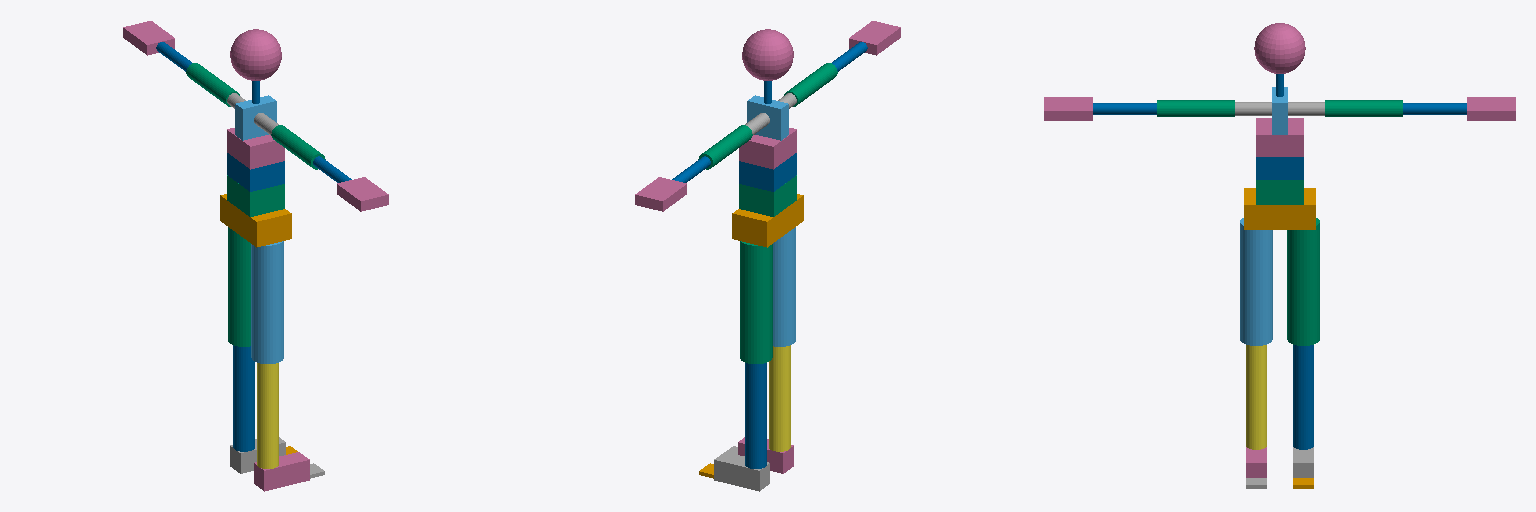
--- What the picture shows (computed from the rendered views, not written in the file) ---
3 views of the same robot in one strip: view 1: azimuth 30°, elevation 25°; view 2: azimuth 150°, elevation 25°; view 3: azimuth 270°, elevation 25° (orthographic).
Robot: XSensStyleModel_template — 49 links, 48 joints (48 revolute); root link Pelvis; default pose: all joints at 0.
Links seen in each view (by area): view 1: RightUpperLeg, LeftUpperLeg, RightLowerLeg, LeftLowerLeg, Head, Pelvis, T12, L5, RightFoot, L3, T8, RightHand (+4 smaller); view 2: LeftUpperLeg, RightUpperLeg, LeftLowerLeg, RightLowerLeg, Head, Pelvis, T12, L5, LeftFoot, L3, T8, LeftHand (+4 smaller); view 3: RightUpperLeg, LeftUpperLeg, Pelvis, RightLowerLeg, LeftLowerLeg, Head, T12, RightUpperArm, LeftUpperArm, L5, RightHand, LeftHand (+6 smaller).
Link boxes in pixels (<box>): RightUpperLeg: <box>251,241,283,363</box>; LeftUpperLeg: <box>228,227,250,346</box>; RightLowerLeg: <box>257,363,278,468</box>; LeftLowerLeg: <box>233,345,254,451</box>; Head: <box>230,29,281,80</box>; Pelvis: <box>220,194,291,247</box>; T12: <box>227,128,284,169</box>; L5: <box>227,175,284,216</box>; RightFoot: <box>254,452,309,491</box>; L3: <box>227,153,284,191</box>; T8: <box>235,95,276,140</box>; RightHand: <box>337,177,388,211</box>; LeftUpperLeg: <box>740,241,772,363</box>; RightUpperLeg: <box>773,227,795,346</box>; LeftLowerLeg: <box>745,363,766,468</box>; RightLowerLeg: <box>769,345,790,451</box>; Head: <box>742,29,793,80</box>; Pelvis: <box>732,194,803,247</box>; T12: <box>739,128,796,169</box>; L5: <box>739,175,796,216</box>; LeftFoot: <box>714,452,769,491</box>; L3: <box>739,153,796,191</box>; T8: <box>747,95,788,140</box>; LeftHand: <box>635,177,686,211</box>; RightUpperLeg: <box>1240,218,1272,345</box>; LeftUpperLeg: <box>1287,218,1319,345</box>; Pelvis: <box>1244,188,1315,229</box>; RightLowerLeg: <box>1246,345,1266,449</box>; LeftLowerLeg: <box>1293,345,1313,449</box>; Head: <box>1254,23,1305,73</box>; T12: <box>1256,118,1303,156</box>; RightUpperArm: <box>1157,100,1234,116</box>; LeftUpperArm: <box>1325,100,1402,116</box>; L5: <box>1256,180,1303,204</box>; RightHand: <box>1044,97,1092,120</box>; LeftHand: <box>1467,97,1515,120</box>.
Bounding box of the posed robot: 0.2938 × 1.63 × 1.69 m (x, y, z).
Geometry: primitives only (box / cylinder / sphere), no mesh files.

robot.urdf — XSensStyleModel_template:
<!--URDF MODEL 48 DoFs-->

<robot name="XSensStyleModel_template">
<!--To open this model with Gazebo replace the null masses, inertias and dimensions of the 'fake links f1 and f2'-->
    <!--LINKS-->
	<!--Link base (1)-->
	<link name="Pelvis">
        <inertial>
            <mass value="4.976"/>
			<!--COM origin wrt pHipOrigin-->
            <origin xyz="0           0    0.049743" rpy="0 0 0" />
            <inertia ixx="0.029678" iyy="0.011854" izz="0.033653" ixy="0" ixz="0" iyz="0"/>
        </inertial>

        <visual>
			<!--box origin wrt pHipOrigin-->
            <origin xyz="0           0    0.049743" rpy="0 0 0" />
            <geometry>
                <box size="0.13815     0.24914    0.097469"/>
            </geometry>
        </visual>

        <collision>
			<!--box origin wrt pHipOrigin-->
            <origin xyz="0           0    0.049743" rpy="0 0 0" />
            <geometry>
                <box size="0.13815     0.24914    0.097469"/>
            </geometry>
        </collision>
    </link>


    <!--Chain from (2) to (7)-->
	<link name="L5_f1">
        <inertial>
            <mass value="0"/>
            <origin xyz="0 0 0" rpy="0 0 0" />
            <inertia ixx="0" iyy="0" izz="0" ixy="0" ixz="0" iyz="0"/>
        </inertial>
    </link>


	<link name="L5">
        <inertial>
            <mass value="6.3444"/>
			<!--COM origin wrt jL5S1-->
            <origin xyz="0           0    0.047552" rpy="0 0 0" />
            <inertia ixx="0.018868" iyy="0.014872" izz="0.024177" ixy="0" ixz="0" iyz="0"/>
        </inertial>

        <visual>
			<!--box origin origin wrt jL5S1-->
            <origin xyz="0           0    0.047552" rpy="0 0 0" />
            <geometry>
                <box size="0.13815     0.16323    0.095104"/>
            </geometry>
        </visual>

        <collision>
			<!--box origin origin wrt jL5S1-->
            <origin xyz="0           0    0.047552" rpy="0 0 0" />
            <geometry>
                <box size="0.13815     0.16323    0.095104"/>
            </geometry>
        </collision>
    </link>


	<link name="L3_f1">
        <inertial>
            <mass value="0"/>
            <origin xyz="0 0 0" rpy="0 0 0" />
            <inertia ixx="0" iyy="0" izz="0" ixy="0" ixz="0" iyz="0"/>
        </inertial>
    </link>


	<link name="L3">
        <inertial>
            <mass value="6.3444"/>
			<!--COM origin wrt jL4L3-->
            <origin xyz="0           0    0.042958" rpy="0 0 0" />
            <inertia ixx="0.017989" iyy="0.013993" izz="0.024177" ixy="0" ixz="0" iyz="0"/>
        </inertial>

        <visual>
			<!--box origin origin wrt jL4L3-->
            <origin xyz="0           0    0.042958" rpy="0 0 0" />
            <geometry>
                <box size="0.13815     0.16323    0.085916"/>
            </geometry>
        </visual>

        <collision>
			<!--box origin origin wrt jL4L3-->
            <origin xyz="0           0    0.042958" rpy="0 0 0" />
            <geometry>
                <box size="0.13815     0.16323    0.085916"/>
            </geometry>
        </collision>
    </link>


	<link name="T12_f1">
        <inertial>
            <mass value="0"/>
            <origin xyz="0 0 0" rpy="0 0 0" />
            <inertia ixx="0" iyy="0" izz="0" ixy="0" ixz="0" iyz="0"/>
        </inertial>
    </link>


	<link name="T12">
        <inertial>
            <mass value="6.3444"/>
			<!--COM origin wrt jL1T12-->
            <origin xyz="0           0    0.042958" rpy="0 0 0" />
            <inertia ixx="0.017989" iyy="0.013993" izz="0.024177" ixy="0" ixz="0" iyz="0"/>
        </inertial>

        <visual>
			<!--box origin origin wrt jL1T12-->
            <origin xyz="0           0    0.042958" rpy="0 0 0" />
            <geometry>
                <box size="0.13815     0.16323    0.085916"/>
            </geometry>
        </visual>

        <collision>
			<!--box origin origin wrt jL1T12-->
            <origin xyz="0           0    0.042958" rpy="0 0 0" />
            <geometry>
                <box size="0.13815     0.16323    0.085916"/>
            </geometry>
        </collision>
    </link>


	<link name="T8_f1">
        <inertial>
            <mass value="0"/>
            <origin xyz="0 0 0" rpy="0 0 0" />
            <inertia ixx="0" iyy="0" izz="0" ixy="0" ixz="0" iyz="0"/>
        </inertial>
    </link>


	<link name="T8_f2">
        <inertial>
            <mass value="0"/>
            <origin xyz="0 0 0" rpy="0 0 0" />
            <inertia ixx="0" iyy="0" izz="0" ixy="0" ixz="0" iyz="0"/>
        </inertial>
    </link>


	<link name="T8">
        <inertial>
            <mass value="2.488"/>
			<!--COM origin wrt jT9T8-->
            <origin xyz="0           0    0.059874" rpy="0 0 0" />
            <inertia ixx="0.0035473" iyy="0.0067278" izz="0.0043289" ixy="0" ixz="0" iyz="0"/>
        </inertial>

        <visual>
			<!--box origin wrt jT9T8-->
            <origin xyz="0           0    0.059874" rpy="0 0 0" />
            <geometry>
                <box size="0.13457    0.052626     0.11975"/>
            </geometry>
        </visual>

        <collision>
			<!--box origin wrt jT9T8-->
            <origin xyz="0           0    0.059874" rpy="0 0 0" />
            <geometry>
                <box size="0.13457    0.052626     0.11975"/>
            </geometry>
        </collision>

    </link>


	<link name="Neck_f1">
        <inertial>
            <mass value="0"/>
            <origin xyz="0 0 0" rpy="0 0 0" />
            <inertia ixx="0" iyy="0" izz="0" ixy="0" ixz="0" iyz="0"/>
        </inertial>
    </link>


	<link name="Neck_f2">
        <inertial>
            <mass value="0"/>
            <origin xyz="0 0 0" rpy="0 0 0" />
            <inertia ixx="0" iyy="0" izz="0" ixy="0" ixz="0" iyz="0"/>
        </inertial>
    </link>


	<link name="Neck">
        <inertial>
            <mass value="0.7464"/>
			<!--COM origin wrt jT1C7-->
            <origin xyz="0           0    0.044626" rpy="0 0 0" />
            <inertia ixx="0.0006461" iyy="0.0006461" izz="0.00030124" ixy="0" ixz="0" iyz="0"/>
        </inertial>

        <visual>
			<!--box origin wrt jT1C7-->
            <origin xyz="0           0    0.044626" rpy="0 0 0" />
            <geometry>
		<cylinder length="0.089252" radius="0.014205"/>
            </geometry>
        </visual>

        <collision>
			<!--box origin wrt jT1C7-->
            <origin xyz="0           0    0.044626" rpy="0 0 0" />
            <geometry>
                <cylinder length="0.089252" radius="0.014205"/>
            </geometry>
        </collision>
    </link>


	<link name="Head_f1">
        <inertial>
            <mass value="0"/>
            <origin xyz="0 0 0" rpy="0 0 0" />
            <inertia ixx="0" iyy="0" izz="0" ixy="0" ixz="0" iyz="0"/>
        </inertial>
    </link>


	<link name="Head">
        <inertial>
            <mass value="2.2392"/>
			<!--COM origin wrt jC1Head-->
            <origin xyz="0           0    0.089005" rpy="0 0 0" />
            <inertia ixx="0.0070955" iyy="0.0070955" izz="0.0070955" ixy="0" ixz="0" iyz="0"/>
        </inertial>

        <visual>
			<!--boc origin wrt jC1Head-->
            <origin xyz="0           0    0.089005" rpy="0 0 0" />
            <geometry>
                <sphere radius="0.089005"/>
            </geometry>
        </visual>

        <collision>
			<!--box origin wrt jC1Head-->
            <origin xyz="0           0    0.089005" rpy="0 0 0" />
            <geometry>
                <sphere radius="0.089005"/>
            </geometry>
        </collision>

    </link>


	<!--Chain from (8) to (11)-->
	<link name="RightShoulder">
        <inertial>
            <mass value="1.9282"/>
			<!--COM origin wrt jRightC7Shoulder-->
            <origin xyz="0   -0.065233           0" rpy="0 0 0" />
            <inertia ixx="0.0030029" iyy="0.00053578" izz="0.0030029" ixy="0" ixz="0" iyz="0"/>
        </inertial>

        <visual>
			<!--box origin wrt jRightC7Shoulder. RPY rotated of pi/2.-->
            <origin xyz="0   -0.065233           0" rpy="1.5708 0 0" />
            <geometry>
                <cylinder length="0.13047" radius="0.023574"/>
            </geometry>
        </visual>

        <collision>
			<!--box origin wrt jRightC7Shoulder. RPY rotated of pi/2.-->
            <origin xyz="0   -0.065233           0" rpy="1.5708 0 0" />
            <geometry>
                <cylinder length="0.13047" radius="0.023574"/>
            </geometry>
        </collision>

    </link>


	<link name="RightUpperArm_f1">
        <inertial>
            <mass value="0"/>
            <origin xyz="0 0 0" rpy="0 0 0" />
            <inertia ixx="0" iyy="0" izz="0" ixy="0" ixz="0" iyz="0"/>
        </inertial>
    </link>


	<link name="RightUpperArm_f2">
        <inertial>
            <mass value="0"/>
            <origin xyz="0 0 0" rpy="0 0 0" />
            <inertia ixx="0" iyy="0" izz="0" ixy="0" ixz="0" iyz="0"/>
        </inertial>
    </link>


    <link name="RightUpperArm">
        <inertial>
            <mass value="1.866"/>
			<!--COM origin wrt jRightShoulder-->
            <origin xyz="0    -0.13497           0" rpy="0 0 0" />
            <inertia ixx="0.011736" iyy="0.00080917" izz="0.011736" ixy="0" ixz="0" iyz="0"/>
        </inertial>

        <visual>
			<!--box origin wrt jRightShoulder. RPY rotated of pi/2.-->
            <origin xyz="0    -0.13497           0" rpy="1.5708 0 0" />
            <geometry>
                <cylinder length="0.26994" radius="0.029449"/>
            </geometry>
        </visual>

        <collision>
			<!--box origin wrt jRightShoulder. RPY rotated of pi/2.-->
            <origin xyz="0    -0.13497           0" rpy="1.5708 0 0" />
            <geometry>
                <cylinder length="0.26994" radius="0.029449"/>
            </geometry>
        </collision>

    </link>


	<link name="RightForeArm_f1">
        <inertial>
            <mass value="0"/>
            <origin xyz="0 0 0" rpy="0 0 0" />
            <inertia ixx="0" iyy="0" izz="0" ixy="0" ixz="0" iyz="0"/>
        </inertial>
    </link>


	<link name="RightForeArm">
        <inertial>
            <mass value="1.244"/>
			<!--COM origin wrt jRightElbow-->
            <origin xyz="0    -0.11124           0" rpy="0 0 0" />
            <inertia ixx="0.0052508" iyy="0.00023975" izz="0.0052508" ixy="0" ixz="0" iyz="0"/>
        </inertial>

        <visual>
			<!--box origin wrt jRightElbow. RPY rotated of pi/2.-->
            <origin xyz="0    -0.11124           0" rpy="1.5708 0 0" />
            <geometry>
                <cylinder length="0.22247" radius="0.019633"/>
            </geometry>
        </visual>

        <collision>
			<!--box origin wrt jRightElbow. RPY rotated of pi/2.-->
            <origin xyz="0    -0.11124           0" rpy="1.5708 0 0" />
            <geometry>
                <cylinder length="0.22247" radius="0.019633"/>
            </geometry>
        </collision>

    </link>


	<link name="RightHand_f1">
        <inertial>
            <mass value="0"/>
            <origin xyz="0 0 0" rpy="0 0 0" />
            <inertia ixx="0" iyy="0" izz="0" ixy="0" ixz="0" iyz="0"/>
        </inertial>
    </link>


	<link name="RightHand">
        <inertial>
            <mass value="1.0332"/>
			<!--COM origin wrt jRightWrist-->
            <origin xyz="0   -0.083588           0" rpy="0 0 0" />
            <inertia ixx="0.0025391" iyy="0.0012022" izz="0.0034758" ixy="0" ixz="0" iyz="0"/>
        </inertial>

        <visual>
			<!--box origin wrt jRightWrist-->
            <origin xyz="0   -0.083588           0" rpy="0 0 0" />
            <geometry>
                <box size="0.11145     0.16718    0.039266"/>
            </geometry>
        </visual>

        <collision>
			<!--box origin wrt jRightWrist-->
            <origin xyz="0   -0.083588           0" rpy="0 0 0" />
            <geometry>
                <box size="0.11145     0.16718    0.039266"/>
            </geometry>
        </collision>

    </link>


	<!--Chain from (12) to (15)-->
	<link name="LeftShoulder">
        <inertial>
            <mass value="1.9282"/>
			<!--COM origin wrt jLeftC7Shoulder-->
            <origin xyz="0    0.065233           0" rpy="0 0 0" />
            <inertia ixx="0.0030029" iyy="0.00053578" izz="0.0030029" ixy="0" ixz="0" iyz="0"/>
        </inertial>

        <visual>
			<!--box origin wrt jLeftC7Shoulder. RPY rotated of pi/2.-->
            <origin xyz="0    0.065233           0" rpy="1.5708 0 0" />
            <geometry>
                <cylinder length="0.13047" radius="0.023574"/>
            </geometry>
        </visual>

        <collision>
			<!--box origin wrt jLeftC7Shoulder. RPY rotated of pi/2.-->
            <origin xyz="0    0.065233           0" rpy="1.5708 0 0" />
            <geometry>
                <cylinder length="0.13047" radius="0.023574"/>
            </geometry>
        </collision>

    </link>


	<link name="LeftUpperArm_f1">
        <inertial>
            <mass value="0"/>
            <origin xyz="0 0 0" rpy="0 0 0" />
            <inertia ixx="0" iyy="0" izz="0" ixy="0" ixz="0" iyz="0"/>
        </inertial>
    </link>


	<link name="LeftUpperArm_f2">
        <inertial>
            <mass value="0"/>
            <origin xyz="0 0 0" rpy="0 0 0" />
            <inertia ixx="0" iyy="0" izz="0" ixy="0" ixz="0" iyz="0"/>
        </inertial>
    </link>


	<link name="LeftUpperArm">
        <inertial>
            <mass value="1.866"/>
			<!--COM origin wrt jLeftShoulder-->
            <origin xyz="0     0.13497           0" rpy="0 0 0" />
            <inertia ixx="0.011736" iyy="0.00080917" izz="0.011736" ixy="0" ixz="0" iyz="0"/>
        </inertial>

        <visual>
			<!--box origin wrt jLeftShoulder. RPY rotated of pi/2.-->
            <origin xyz="0     0.13497           0" rpy="1.5708 0 0" />
            <geometry>
                <cylinder length="0.26994" radius="0.029449"/>
            </geometry>
        </visual>

        <collision>
			<!--box origin wrt jLeftShoulder. RPY rotated of pi/2.-->
            <origin xyz="0     0.13497           0" rpy="1.5708 0 0" />
            <geometry>
                <cylinder length="0.26994" radius="0.029449"/>
            </geometry>
        </collision>

    </link>


	<link name="LeftForeArm_f1">
        <inertial>
            <mass value="0"/>
            <origin xyz="0 0 0" rpy="0 0 0" />
            <inertia ixx="0" iyy="0" izz="0" ixy="0" ixz="0" iyz="0"/>
        </inertial>
    </link>


	<link name="LeftForeArm">
        <inertial>
            <mass value="1.244"/>
			<!--COM origin wrt jLeftElbow-->
            <origin xyz="0     0.11124           0" rpy="0 0 0" />
            <inertia ixx="0.0052508" iyy="0.00023975" izz="0.0052508" ixy="0" ixz="0" iyz="0"/>
        </inertial>

        <visual>
			<!--box origin wrt jLeftElbow. RPY rotated of pi/2.-->
            <origin xyz="0     0.11124           0" rpy="1.5708 0 0" />
            <geometry>
                <cylinder length="0.22247" radius="0.019633"/>
            </geometry>
        </visual>

        <collision>
			<!--box origin wrt jLeftElbow. RPY rotated of pi/2.-->
            <origin xyz="0     0.11124           0" rpy="1.5708 0 0" />
            <geometry>
                <cylinder length="0.22247" radius="0.019633"/>
            </geometry>
        </collision>

    </link>


	<link name="LeftHand_f1">
        <inertial>
            <mass value="0"/>
            <origin xyz="0 0 0" rpy="0 0 0" />
            <inertia ixx="0" iyy="0" izz="0" ixy="0" ixz="0" iyz="0"/>
        </inertial>
    </link>


	<link name="LeftHand">
        <inertial>
            <mass value="0.3732"/>
			<!--COM origin wrt jLeftWrist-->
            <origin xyz="0    0.083588           0" rpy="0 0 0" />
            <inertia ixx="0.00091713" iyy="0.00043425" izz="0.0012555" ixy="0" ixz="0" iyz="0"/>
        </inertial>

        <visual>
			<!--COM origin wrt jLeftWrist-->
            <origin xyz="0    0.083588           0" rpy="0 0 0" />
            <geometry>
                <box size="0.11145     0.16718    0.039266"/>
            </geometry>
        </visual>

        <collision>
			<!--COM origin wrt jLeftWrist-->
            <origin xyz="0    0.083588           0" rpy="0 0 0" />
            <geometry>
                <box size="0.11145     0.16718    0.039266"/>
            </geometry>
        </collision>

    </link>


	<!--Chain from (16) to (19)-->
	<link name="RightUpperLeg_f1">
        <inertial>
            <mass value="0"/>
            <origin xyz="0 0 0" rpy="0 0 0" />
            <inertia ixx="0" iyy="0" izz="0" ixy="0" ixz="0" iyz="0"/>
        </inertial>
    </link>


	<link name="RightUpperLeg_f2">
        <inertial>
            <mass value="0"/>
            <origin xyz="0 0 0" rpy="0 0 0" />
            <inertia ixx="0" iyy="0" izz="0" ixy="0" ixz="0" iyz="0"/>
        </inertial>
    </link>


    <link name="RightUpperLeg">
        <inertial>
            <mass value="7.775"/>
			<!--COM origin wrt jRightHip-->
            <origin xyz="0           0    -0.22449" rpy="0 0 0" />
            <inertia ixx="0.13681" iyy="0.13681" izz="0.01241" ixy="0" ixz="0" iyz="0"/>
        </inertial>

        <visual>
			<!--box origin wrt jRightHip-->
            <origin xyz="0           0    -0.22449" rpy="0 0 0" />
            <geometry>
                <cylinder length="0.44898" radius="0.0565"/>
            </geometry>
        </visual>

        <collision>
			<!--box origin wrt jRightHip-->
            <origin xyz="0           0    -0.22449" rpy="0 0 0" />
            <geometry>
                <cylinder length="0.44898" radius="0.0565"/>
            </geometry>
        </collision>

    </link>


	<link name="RightLowerLeg_f1">
        <inertial>
            <mass value="0"/>
            <origin xyz="0 0 0" rpy="0 0 0" />
            <inertia ixx="0" iyy="0" izz="0" ixy="0" ixz="0" iyz="0"/>
        </inertial>
    </link>


    <link name="RightLowerLeg">
        <inertial>
            <mass value="2.2703"/>
			<!--COM origin wrt jRightKnee-->
            <origin xyz="0           0    -0.20304" rpy="0 0 0" />
            <inertia ixx="0.031992" iyy="0.031992" izz="0.0015867" ixy="0" ixz="0" iyz="0"/>
        </inertial>

        <visual>
			<!--box origin wrt jRightKnee-->
            <origin xyz="0           0    -0.20304" rpy="0 0 0" />
            <geometry>
                <cylinder length="0.40608" radius="0.037388"/>
            </geometry>
        </visual>

        <collision>
			<!--box origin wrt jRightKnee-->
            <origin xyz="0           0    -0.20304" rpy="0 0 0" />
            <geometry>
                <cylinder length="0.40608" radius="0.037388"/>
            </geometry>
        </collision>

    </link>


	<link name="RightFoot_f1">
        <inertial>
            <mass value="0"/>
            <origin xyz="0 0 0" rpy="0 0 0" />
            <inertia ixx="0" iyy="0" izz="0" ixy="0" ixz="0" iyz="0"/>
        </inertial>
    </link>


	<link name="RightFoot_f2">
        <inertial>
            <mass value="0"/>
            <origin xyz="0 0 0" rpy="0 0 0" />
            <inertia ixx="0" iyy="0" izz="0" ixy="0" ixz="0" iyz="0"/>
        </inertial>
    </link>


    <link name="RightFoot">
        <inertial>
            <mass value="0.8086"/>
			<!--COM origin wrt jRightAnkle-->
            <origin xyz="0.054652           0   -0.039254" rpy="0 0 0" />
            <inertia ixx="0.00079209" iyy="0.0025944" izz="0.0025558" ixy="0" ixz="0" iyz="0"/>
        </inertial>

        <visual>
			<!--box origin wrt jRightAnkle-->
	    	<origin xyz="0.054652           0   -0.039254" rpy="0 0 0" />
            <geometry>
                <box size="0.17983    0.074775    0.078509"/>
            </geometry>
        </visual>

        <collision>
			<!--box origin wrt jRightAnkle-->
		    <origin xyz="0.054652           0   -0.039254" rpy="0 0 0" />
	            <geometry>
	                <box size="0.17983    0.074775    0.078509"/>
	            </geometry>
        </collision>

    </link>


    <link name="RightToe">
        <inertial>
            <mass value="0.0933"/>
			<!--COM origin wrt jRightBallFoot-->
            <origin xyz="0.030086           0           0" rpy="0 0 0" />
            <inertia ixx="4.5038e-05" iyy="2.9717e-05" izz="7.1624e-05" ixy="0" ixz="0" iyz="0"/>
        </inertial>

        <visual>
			<!--box origin wrt jRightBallFoot-->
            <origin xyz="0.030086           0           0" rpy="0 0 0" />
            <geometry>
                <box size="0.060173    0.074775    0.014191"/>
            </geometry>
        </visual>

        <collision>
			<!--box origin wrt jRightBallFoot-->
            <origin xyz="0.030086           0           0" rpy="0 0 0" />
            <geometry>
                <box size="0.060173    0.074775    0.014191"/>
            </geometry>
        </collision>
    </link>


	<!--Chain from (20) to (23)-->
	<link name="LeftUpperLeg_f1">
        <inertial>
            <mass value="0"/>
            <origin xyz="0 0 0" rpy="0 0 0" />
            <inertia ixx="0" iyy="0" izz="0" ixy="0" ixz="0" iyz="0"/>
        </inertial>
    </link>


	<link name="LeftUpperLeg_f2">
        <inertial>
            <mass value="0"/>
            <origin xyz="0 0 0" rpy="0 0 0" />
            <inertia ixx="0" iyy="0" izz="0" ixy="0" ixz="0" iyz="0"/>
        </inertial>
    </link>


    <link name="LeftUpperLeg">
        <inertial>
            <mass value="7.775"/>
			<!--COM origin wrt jLeftHip-->
            <origin xyz="0           0    -0.22449" rpy="0 0 0" />
            <inertia ixx="0.13681" iyy="0.13681" izz="0.01241" ixy="0" ixz="0" iyz="0"/>
        </inertial>

        <visual>
			<!--box origin wrt jLeftHip-->
            <origin xyz="0           0    -0.22449" rpy="0 0 0" />
            <geometry>
                <cylinder length="0.44898" radius="-0.0565"/>
            </geometry>
        </visual>

        <collision>
			<!--box origin wrt jLeftHip-->
            <origin xyz="0           0    -0.22449" rpy="0 0 0" />
            <geometry>
                <cylinder length="0.44898" radius="-0.0565"/>
            </geometry>
        </collision>

    </link>


	<link name="LeftLowerLeg_f1">
        <inertial>
            <mass value="0"/>
            <origin xyz="0 0 0" rpy="0 0 0" />
            <inertia ixx="0" iyy="0" izz="0" ixy="0" ixz="0" iyz="0"/>
        </inertial>
    </link>


	<link name="LeftLowerLeg">
        <inertial>
            <mass value="2.2703"/>
			<!--COM origin wrt jLeftKnee-->
            <origin xyz="0           0    -0.20304" rpy="0 0 0" />
            <inertia ixx="0.031992" iyy="0.031992" izz="0.0015867" ixy="0" ixz="0" iyz="0"/>
        </inertial>

        <visual>
			<!--box origin wrt jLeftKnee-->
            <origin xyz="0           0    -0.20304" rpy="0 0 0" />
            <geometry>
		<cylinder length="0.40608" radius="0.037388"/>
            </geometry>
        </visual>

        <collision>
			<!--box origin wrt jLeftKnee-->
            <origin xyz="0           0    -0.20304" rpy="0 0 0" />
            <geometry>
		<cylinder length="0.40608" radius="0.037388"/>
            </geometry>
        </collision>

    </link>


	<link name="LeftFoot_f1">
        <inertial>
            <mass value="0"/>
            <origin xyz="0 0 0" rpy="0 0 0" />
            <inertia ixx="0" iyy="0" izz="0" ixy="0" ixz="0" iyz="0"/>
        </inertial>
    </link>


	<link name="LeftFoot_f2">
        <inertial>
            <mass value="0"/>
            <origin xyz="0 0 0" rpy="0 0 0" />
            <inertia ixx="0" iyy="0" izz="0" ixy="0" ixz="0" iyz="0"/>
        </inertial>
    </link>


    <link name="LeftFoot">
        <inertial>
            <mass value="0.8086"/>
			<!--COM origin wrt jLeftAnkle-->
            <origin xyz="0.054652           0   -0.039254" rpy="0 0 0" />
            <inertia ixx="0.00079209" iyy="0.0025944" izz="0.0025558" ixy="0" ixz="0" iyz="0"/>
        </inertial>

        <visual>
			<!--box origin wrt jLeftAnkle-->
	   	 	<origin xyz="0.054652           0   -0.039254" rpy="0 0 0" />
            <geometry>
                <box size="0.17983    0.074775    0.078509"/>
            </geometry>
        </visual>

        <collision>
			<!--box origin wrt jLeftAnkle-->
		    <origin xyz="0.054652           0   -0.039254" rpy="0 0 0" />
	            <geometry>
	                <box size="0.17983    0.074775    0.078509"/>
	            </geometry>
        </collision>

    </link>


	<link name="LeftToe">
        <inertial>
            <mass value="0.0933"/>
			<!--COM origin wrt jLeftBallFoot-->
            <origin xyz="0.030086           0           0" rpy="0 0 0" />
            <inertia ixx="4.5038e-05" iyy="2.9717e-05" izz="7.1624e-05" ixy="0" ixz="0" iyz="0"/>
        </inertial>

        <visual>
			<!--box origin wrt jLeftBallFoot-->
            <origin xyz="0.030086           0           0" rpy="0 0 0" />
            <geometry>
                <box size="0.060173    0.074775    0.014191"/>
            </geometry>
        </visual>

        <collision>
			<!--box origin wrt jLeftBallFoot-->
            <origin xyz="0.030086           0           0" rpy="0 0 0" />
            <geometry>
                <box size="0.060173    0.074775    0.014191"/>
            </geometry>
        </collision>
    </link>


	<!--JOINTS-->
	<!--Chain from (2) to (7)-->
	<joint name="jL5S1_rotx" type="revolute">
        <origin xyz="-0.000206           0    0.098478" rpy="0 0 0"/>
        <parent link="Pelvis"/>
        <child link="L5_f1"/>
        <dynamics damping="0.1" friction="0.0"/>
        <limit effort="30" velocity="1.0" lower="-0.610865" upper="0.610865" />
        <axis xyz="1 0 0" />
    </joint>
    
	<joint name="jL5S1_roty" type="revolute">
        <origin xyz="0 0 0" rpy="0 0 0"/>
        <parent link="L5_f1"/>
        <child link="L5"/>
        <dynamics damping="0.1" friction="0.0"/>
        <limit effort="30" velocity="1.0" lower="-0.523599" upper="1.309" />
        <axis xyz="0 1 0" />
    </joint>
	<joint name="jL4L3_rotx" type="revolute">
        <origin xyz="0.000374           0    0.095104" rpy="0 0 0"/>
        <parent link="L5"/>
        <child link="L3_f1"/>
        <dynamics damping="0.1" friction="0.0"/>
        <limit effort="30" velocity="1.0" lower="-0.610865" upper="0.610865" />
        <axis xyz="1 0 0" />
    </joint>
	<joint name="jL4L3_roty" type="revolute">
        <origin xyz="0 0 0" rpy="0 0 0"/>
        <parent link="L3_f1"/>
        <child link="L3"/>
        <dynamics damping="0.1" friction="0.0"/>
        <limit effort="30" velocity="1.0" lower="-0.523599" upper="1.309" />
        <axis xyz="0 1 0" />
    </joint>
	<joint name="jL1T12_rotx" type="revolute">
        <origin xyz="0           0    0.085916" rpy="0 0 0"/>
        <parent link="L3"/>
        <child link="T12_f1"/>
        <dynamics damping="0.1" friction="0.0"/>
        <limit effort="30" velocity="1.0" lower="-0.610865" upper="0.610865" />
        <axis xyz="1 0 0" />
    </joint>
	<joint name="jL1T12_roty" type="revolute">
        <origin xyz="0 0 0" rpy="0 0 0"/>
        <parent link="T12_f1"/>
        <child link="T12"/>
        <dynamics damping="0.1" friction="0.0"/>
        <limit effort="30" velocity="1.0" lower="-0.523599" upper="1.309" />
        <axis xyz="0 1 0" />
    </joint>
	<joint name="jT9T8_rotx" type="revolute">
        <origin xyz="0           0    0.085916" rpy="0 0 0"/>
        <parent link="T12"/>
        <child link="T8_f1"/>
        <dynamics damping="0.1" friction="0.0"/>
        <limit effort="30" velocity="1.0" lower="-0.349066" upper="0.349066" />
        <axis xyz="1 0 0" />
    </joint>
	<joint name="jT9T8_roty" type="revolute">
        <origin xyz="0 0 0" rpy="0 0 0"/>
        <parent link="T8_f1"/>
        <child link="T8_f2"/>
        <dynamics damping="0.1" friction="0.0"/>
        <limit effort="30" velocity="1.0" lower="-0.261799" upper="0.698132" />
        <axis xyz="0 1 0" />
    </joint>
    <joint name="jT9T8_rotz" type="revolute">
        <origin xyz="0 0 0" rpy="0 0 0"/>
        <parent link="T8_f2"/>
        <child link="T8"/>
        <dynamics damping="0.1" friction="0.0"/>
        <limit effort="30" velocity="1.0" lower="-0.610865" upper="0.610865" />
        <axis xyz="0 0 1" />
    </joint>
	<joint name="jT1C7_rotx" type="revolute">
        <origin xyz="0           0     0.11975" rpy="0 0 0"/>
        <parent link="T8"/>
        <child link="Neck_f1"/>
        <dynamics damping="0.1" friction="0.0"/>
        <limit effort="30" velocity="1.0" lower="-0.610865" upper="0.610865" />
        <axis xyz="1 0 0" />
    </joint>
	<joint name="jT1C7_roty" type="revolute">
        <origin xyz="0 0 0" rpy="0 0 0"/>
        <parent link="Neck_f1"/>
        <child link="Neck_f2"/>
        <dynamics damping="0.1" friction="0.0"/>
        <limit effort="30" velocity="1.0" lower="-0.959931" upper="1.5708" />
        <axis xyz="0 1 0" />
    </joint>
    <joint name="jT1C7_rotz" type="revolute">
        <origin xyz="0 0 0" rpy="0 0 0"/>
        <parent link="Neck_f2"/>
        <child link="Neck"/>
        <dynamics damping="0.1" friction="0.0"/>
        <limit effort="30" velocity="1.0" lower="-1.22173" upper="1.22173" />
        <axis xyz="0 0 1" />
    </joint>
	<joint name="jC1Head_rotx" type="revolute">
        <origin xyz="0.000152           0    0.089252" rpy="0 0 0"/>
        <parent link="Neck"/>
        <child link="Head_f1"/>
        <dynamics damping="0.1" friction="0.0"/>
        <limit effort="30" velocity="1.0" lower="-0.610865" upper="0.610865" />
        <axis xyz="1 0 0" />
    </joint>
	<joint name="jC1Head_roty" type="revolute">
        <origin xyz="0 0 0" rpy="0 0 0"/>
        <parent link="Head_f1"/>
        <child link="Head"/>
        <dynamics damping="0.1" friction="0.0"/>
        <limit effort="30" velocity="1.0" lower="-0.436332" upper="0.174533" />
        <axis xyz="0 1 0" />
    </joint>
	<!--Chain from (8) to (11)-->
	<joint name="jRightC7Shoulder_rotx" type="revolute">
        <origin xyz="0   -0.026313    0.067052" rpy="0 0 0"/>
        <parent link="T8"/>
        <child link="RightShoulder"/>
        <dynamics damping="0.1" friction="0.0"/>
        <limit effort="30" velocity="1.0" lower="-0.0872665" upper="0.785398" />
        <axis xyz="1 0 0" />
    </joint>
	<joint name="jRightShoulder_rotx" type="revolute">
        <origin xyz="0    -0.13047           0" rpy="0 0 0"/>
        <parent link="RightShoulder"/>
        <child link="RightUpperArm_f1"/>
        <dynamics damping="0.1" friction="0.0"/>
        <limit effort="30" velocity="1.0" lower="-2.35619" upper="1.5708" />
        <axis xyz="1 0 0" />
    </joint>
	<joint name="jRightShoulder_roty" type="revolute">
        <origin xyz="0 0 0" rpy="0 0 0"/>
        <parent link="RightUpperArm_f1"/>
        <child link="RightUpperArm_f2"/>
        <dynamics damping="0.1" friction="0.0"/>
        <limit effort="30" velocity="1.0" lower="-1.5708" upper="1.5708" />
        <axis xyz="0 1 0" />
    </joint>
    <joint name="jRightShoulder_rotz" type="revolute">
        <origin xyz="0 0 0" rpy="0 0 0"/>
        <parent link="RightUpperArm_f2"/>
        <child link="RightUpperArm"/>
        <dynamics damping="0.1" friction="0.0"/>
        <limit effort="30" velocity="1.0" lower="-0.785398" upper="3.14159" />
        <axis xyz="0 0 1" />
    </joint>
	<joint name="jRightElbow_roty" type="revolute">
        <origin xyz="0    -0.26994           0" rpy="0 0 0"/>
        <parent link="RightUpperArm"/>
        <child link="RightForeArm_f1"/>
        <dynamics damping="0.1" friction="0.0"/>
        <limit effort="30" velocity="1.0" lower="-1.5708" upper="1.48353" />
        <axis xyz="0 1 0" />
    </joint>
	<joint name="jRightElbow_rotz" type="revolute">
        <origin xyz="0 0 0" rpy="0 0 0"/>
        <parent link="RightForeArm_f1"/>
        <child link="RightForeArm"/>
        <dynamics damping="0.1" friction="0.0"/>
        <limit effort="30" velocity="1.0" lower="0" upper="2.53073" />
        <axis xyz="0 0 1" />
    </joint>
	<joint name="jRightWrist_rotx" type="revolute">
        <origin xyz="7.7e-05    -0.22247           0" rpy="0 0 0"/>
        <parent link="RightForeArm"/>
        <child link="RightHand_f1"/>
        <dynamics damping="0.1" friction="0.0"/>
        <limit effort="30" velocity="1.0" lower="-0.872665" upper="1.0472" />
        <axis xyz="1 0 0" />
    </joint>
	<joint name="jRightWrist_rotz" type="revolute">
        <origin xyz="0 0 0" rpy="0 0 0"/>
        <parent link="RightHand_f1"/>
        <child link="RightHand"/>
        <dynamics damping="0.1" friction="0.0"/>
        <limit effort="30" velocity="1.0" lower="-0.523599" upper="0.349066" />
        <axis xyz="0 0 1" />
    </joint>
	<!--Chain from (12) to (15)-->
	<joint name="jLeftC7Shoulder_rotx" type="revolute">
        <origin xyz="0    0.026313    0.067052" rpy="0 0 0"/>
        <parent link="T8"/>
        <child link="LeftShoulder"/>
        <dynamics damping="0.1" friction="0.0"/>
        <limit effort="30" velocity="1.0" lower="-0.0872665" upper="0.785398" />
        <axis xyz="1 0 0" />
    </joint>
	<joint name="jLeftShoulder_rotx" type="revolute">
        <origin xyz="0     0.13047           0" rpy="0 0 0"/>
        <parent link="LeftShoulder"/>
        <child link="LeftUpperArm_f1"/>
        <dynamics damping="0.1" friction="0.0"/>
        <limit effort="30" velocity="1.0" lower="-1.5708" upper="2.35619" />
        <axis xyz="1 0 0" />
    </joint>
	<joint name="jLeftShoulder_roty" type="revolute">
        <origin xyz="0 0 0" rpy="0 0 0"/>
        <parent link="LeftUpperArm_f1"/>
        <child link="LeftUpperArm_f2"/>
        <dynamics damping="0.1" friction="0.0"/>
        <limit effort="30" velocity="1.0" lower="-1.5708" upper="1.5708" />
        <axis xyz="0 1 0" />
    </joint>
    <joint name="jLeftShoulder_rotz" type="revolute">
        <origin xyz="0 0 0" rpy="0 0 0"/>
        <parent link="LeftUpperArm_f2"/>
        <child link="LeftUpperArm"/>
        <dynamics damping="0.1" friction="0.0"/>
        <limit effort="30" velocity="1.0" lower="-3.14159" upper="0.785398" />
        <axis xyz="0 0 1" />
    </joint>
    <joint name="jLeftElbow_roty" type="revolute">
        <origin xyz="0     0.26994           0" rpy="0 0 0"/>
        <parent link="LeftUpperArm"/>
        <child link="LeftForeArm_f1"/>
        <dynamics damping="0.1" friction="0.0"/>
        <limit effort="30" velocity="1.0" lower="-1.5708" upper="1.48353" />
        <axis xyz="0 1 0" />
    </joint>
    <joint name="jLeftElbow_rotz" type="revolute">
        <origin xyz="0 0 0" rpy="0 0 0"/>
        <parent link="LeftForeArm_f1"/>
        <child link="LeftForeArm"/>
        <dynamics damping="0.1" friction="0.0"/>
        <limit effort="30" velocity="1.0" lower="-2.53073" upper="0" />
        <axis xyz="0 0 1" />
    </joint>
	<joint name="jLeftWrist_rotx" type="revolute">
        <origin xyz="7.7e-05     0.22247           0" rpy="0 0 0"/>
        <parent link="LeftForeArm"/>
        <child link="LeftHand_f1"/>
        <dynamics damping="0.1" friction="0.0"/>
        <limit effort="30" velocity="1.0" lower="-1.0472" upper="0.872665" />
        <axis xyz="1 0 0" />
    </joint>
	<joint name="jLeftWrist_rotz" type="revolute">
        <origin xyz="0 0 0" rpy="0 0 0"/>
        <parent link="LeftHand_f1"/>
        <child link="LeftHand"/>
        <dynamics damping="0.1" friction="0.0"/>
        <limit effort="30" velocity="1.0" lower="-0.349066" upper="0.523599" />
        <axis xyz="0 0 1" />
    </joint>
	<!--Chain from (16) to (19)-->
	<joint name="jRightHip_rotx" type="revolute">
        <origin xyz="0.000103   -0.081614    0.001009" rpy="0 0 0"/>
        <parent link="Pelvis"/>
        <child link="RightUpperLeg_f1"/>
        <dynamics damping="0.1" friction="0.0"/>
        <limit effort="30" velocity="1.0" lower="-0.523599" upper="0.785398" />
        <axis xyz="1 0 0" />
    </joint>
	<joint name="jRightHip_roty" type="revolute">
        <origin xyz="0 0 0" rpy="0 0 0"/>
        <parent link="RightUpperLeg_f1"/>
        <child link="RightUpperLeg_f2"/>
        <dynamics damping="0.1" friction="0.0"/>
        <limit effort="30" velocity="1.0" lower="-0.261799" upper="2.0944" />
        <axis xyz="0 1 0" />
    </joint>
    <joint name="jRightHip_rotz" type="revolute">
        <origin xyz="0 0 0" rpy="0 0 0"/>
        <parent link="RightUpperLeg_f2"/>
        <child link="RightUpperLeg"/>
        <dynamics damping="0.1" friction="0.0"/>
        <limit effort="30" velocity="1.0" lower="-0.785398" upper="0.785398" />
        <axis xyz="0 0 1" />
    </joint>
	<joint name="jRightKnee_roty" type="revolute">
        <origin xyz="3.6e-05           0    -0.44898" rpy="0 0 0"/>
        <parent link="RightUpperLeg"/>
        <child link="RightLowerLeg_f1"/>
        <dynamics damping="0.1" friction="0.0"/>
        <limit effort="30" velocity="1.0" lower="0" upper="2.35619" />
        <axis xyz="0 1 0" />
    </joint>
	<joint name="jRightKnee_rotz" type="revolute">
        <origin xyz="0 0 0" rpy="0 0 0"/>
        <parent link="RightLowerLeg_f1"/>
        <child link="RightLowerLeg"/>
        <dynamics damping="0.1" friction="0.0"/>
        <limit effort="30" velocity="1.0" lower="-0.698132" upper="0.523599" />
        <axis xyz="0 0 1" />
    </joint>
	<joint name="jRightAnkle_rotx" type="revolute">
        <origin xyz="0.000205           0    -0.40608" rpy="0 0 0"/>
        <parent link="RightLowerLeg"/>
        <child link="RightFoot_f1"/>
        <dynamics damping="0.1" friction="0.0"/>
        <limit effort="30" velocity="1.0" lower="-0.610865" upper="0.785398" />
        <axis xyz="1 0 0" />
    </joint>
	<joint name="jRightAnkle_roty" type="revolute">
        <origin xyz="0 0 0" rpy="0 0 0"/>
        <parent link="RightFoot_f1"/>
        <child link="RightFoot_f2"/>
        <dynamics damping="0.1" friction="0.0"/>
        <limit effort="30" velocity="1.0" lower="-0.523599" upper="0.872665" />
        <axis xyz="0 1 0" />
    </joint>
    <joint name="jRightAnkle_rotz" type="revolute">
        <origin xyz="0 0 0" rpy="0 0 0"/>
        <parent link="RightFoot_f2"/>
        <child link="RightFoot"/>
        <dynamics damping="0.1" friction="0.0"/>
        <limit effort="30" velocity="1.0" lower="-0.436332" upper="0.872665" />
        <axis xyz="0 0 1" />
    </joint>
	<joint name="jRightBallFoot_roty" type="revolute">
        <origin xyz="0.14456           0   -0.064752" rpy="0 0 0"/>
        <parent link="RightFoot"/>
        <child link="RightToe"/>
        <dynamics damping="0.1" friction="0.0"/>
        <limit effort="30" velocity="1.0" lower="-0.174533" upper="1.5708" />
        <axis xyz="0 1 0" />
    </joint>
	<!--Chain from (20) to (23)-->
	<joint name="jLeftHip_rotx" type="revolute">
        <origin xyz="0.000103    0.081614    0.001009" rpy="0 0 0"/>
        <parent link="Pelvis"/>
        <child link="LeftUpperLeg_f1"/>
        <dynamics damping="0.1" friction="0.0"/>
        <limit effort="30" velocity="1.0" lower="-0.523599" upper="0.785398" />
        <axis xyz="1 0 0" />
    </joint>
	<joint name="jLeftHip_roty" type="revolute">
        <origin xyz="0 0 0" rpy="0 0 0"/>
        <parent link="LeftUpperLeg_f1"/>
        <child link="LeftUpperLeg_f2"/>
        <dynamics damping="0.1" friction="0.0"/>
        <limit effort="30" velocity="1.0" lower="-0.261799" upper="2.0944" />
        <axis xyz="0 1 0" />
    </joint>
    <joint name="jLeftHip_rotz" type="revolute">
        <origin xyz="0 0 0" rpy="0 0 0"/>
        <parent link="LeftUpperLeg_f2"/>
        <child link="LeftUpperLeg"/>
        <dynamics damping="0.1" friction="0.0"/>
        <limit effort="30" velocity="1.0" lower="-0.785398" upper="0.785398" />
        <axis xyz="0 0 1" />
    </joint>
	<joint name="jLeftKnee_roty" type="revolute">
        <origin xyz="3.6e-05           0    -0.44898" rpy="0 0 0"/>
        <parent link="LeftUpperLeg"/>
        <child link="LeftLowerLeg_f1"/>
        <dynamics damping="0.1" friction="0.0"/>
        <limit effort="30" velocity="1.0" lower="0" upper="2.35619" />
        <axis xyz="0 1 0" />
    </joint>
    <joint name="jLeftKnee_rotz" type="revolute">
        <origin xyz="0 0 0" rpy="0 0 0"/>
        <parent link="LeftLowerLeg_f1"/>
        <child link="LeftLowerLeg"/>
        <dynamics damping="0.1" friction="0.0"/>
        <limit effort="30" velocity="1.0" lower="-0.523599" upper="0.698132" />
        <axis xyz="0 0 1" />
    </joint>
	<joint name="jLeftAnkle_rotx" type="revolute">
        <origin xyz="0.000205           0    -0.40608" rpy="0 0 0"/>
        <parent link="LeftLowerLeg"/>
        <child link="LeftFoot_f1"/>
        <dynamics damping="0.1" friction="0.0"/>
        <limit effort="30" velocity="1.0" lower="-0.610865" upper="0.785398" />
        <axis xyz="1 0 0" />
    </joint>
	<joint name="jLeftAnkle_roty" type="revolute">
        <origin xyz="0 0 0" rpy="0 0 0"/>
        <parent link="LeftFoot_f1"/>
        <child link="LeftFoot_f2"/>
        <dynamics damping="0.1" friction="0.0"/>
        <limit effort="30" velocity="1.0" lower="-0.523599" upper="0.872665" />
        <axis xyz="0 1 0" />
    </joint>
    <joint name="jLeftAnkle_rotz" type="revolute">
        <origin xyz="0 0 0" rpy="0 0 0"/>
        <parent link="LeftFoot_f2"/>
        <child link="LeftFoot"/>
        <dynamics damping="0.1" friction="0.0"/>
        <limit effort="30" velocity="1.0" lower="-0.872665" upper="0.436332" />
        <axis xyz="0 0 1" />
    </joint>
	<joint name="jLeftBallFoot_roty" type="revolute">
        <origin xyz="0.14456           0   -0.064752" rpy="0 0 0"/>
        <parent link="LeftFoot"/>
        <child link="LeftToe"/>
        <dynamics damping="0.1" friction="0.0"/>
        <limit effort="30" velocity="1.0" lower="-0.174533" upper="1.5708" />
        <axis xyz="0 1 0" />
    </joint>

	<!-- Sensor  1-->
<sensor name="Pelvis_gyro" type="gyroscope">
<parent link="Pelvis"/>
<origin xyz="-0.056756 -5.6944e-06    0.097055" rpy="-0.3247     0.95826      2.4984"/>
</sensor>
<sensor name="Pelvis_accelerometer" type="accelerometer">
<parent link="Pelvis"/>
<origin xyz="-0.056756 -5.6944e-06    0.097055" rpy="-0.3247     0.95826      2.4984"/>
</sensor>
<!-- Sensor  2-->
<sensor name="T8_gyro" type="gyroscope">
<parent link="T8"/>
<origin xyz="0.1256  2.9265e-07    0.069079" rpy="0.054662      1.1921    0.026605"/>
</sensor>
<sensor name="T8_accelerometer" type="accelerometer">
<parent link="T8"/>
<origin xyz="0.1256  2.9265e-07    0.069079" rpy="0.054662      1.1921    0.026605"/>
</sensor>
<!-- Sensor  3-->
<sensor name="Head_gyro" type="gyroscope">
<parent link="Head"/>
<origin xyz="-0.069574  4.0118e-07    0.076475" rpy="2.3602    0.029132     -1.6926"/>
</sensor>
<sensor name="Head_accelerometer" type="accelerometer">
<parent link="Head"/>
<origin xyz="-0.069574  4.0118e-07    0.076475" rpy="2.3602    0.029132     -1.6926"/>
</sensor>
<!-- Sensor  4-->
<sensor name="RightShoulder_gyro" type="gyroscope">
<parent link="RightShoulder"/>
<origin xyz="-0.018859   -0.047148   -0.056578" rpy="1.3372    -0.28335     -1.4594"/>
</sensor>
<sensor name="RightShoulder_accelerometer" type="accelerometer">
<parent link="RightShoulder"/>
<origin xyz="-0.018859   -0.047148   -0.056578" rpy="1.3372    -0.28335     -1.4594"/>
</sensor>
<!-- Sensor  5-->
<sensor name="RightUpperArm_gyro" type="gyroscope">
<parent link="RightUpperArm"/>
<origin xyz="-0.018123   -0.090613    0.018123" rpy="-0.15226    0.030142     -1.5884"/>
</sensor>
<sensor name="RightUpperArm_accelerometer" type="accelerometer">
<parent link="RightUpperArm"/>
<origin xyz="-0.018123   -0.090613    0.018123" rpy="-0.15226    0.030142     -1.5884"/>
</sensor>
<!-- Sensor  6-->
<sensor name="RightForeArm_gyro" type="gyroscope">
<parent link="RightForeArm"/>
<origin xyz="0.0016793    -0.18323      0.0183" rpy="-1.1132    0.015024     -1.2543"/>
</sensor>
<sensor name="RightForeArm_accelerometer" type="accelerometer">
<parent link="RightForeArm"/>
<origin xyz="0.0016793    -0.18323      0.0183" rpy="-1.1132    0.015024     -1.2543"/>
</sensor>
<!-- Sensor  7-->
<sensor name="RightHand_gyro" type="gyroscope">
<parent link="RightHand"/>
<origin xyz="-3.4565e-08   -0.050814    0.018478" rpy="-0.69083   -0.053849     -1.4329"/>
</sensor>
<sensor name="RightHand_accelerometer" type="accelerometer">
<parent link="RightHand"/>
<origin xyz="-3.4565e-08   -0.050814    0.018478" rpy="-0.69083   -0.053849     -1.4329"/>
</sensor>
<!-- Sensor  8-->
<sensor name="LeftShoulder_gyro" type="gyroscope">
<parent link="LeftShoulder"/>
<origin xyz="-0.018859    0.047148   -0.056578" rpy="-1.1487    -0.34419      1.3655"/>
</sensor>
<sensor name="LeftShoulder_accelerometer" type="accelerometer">
<parent link="LeftShoulder"/>
<origin xyz="-0.018859    0.047148   -0.056578" rpy="-1.1487    -0.34419      1.3655"/>
</sensor>
<!-- Sensor  9-->
<sensor name="LeftUpperArm_gyro" type="gyroscope">
<parent link="LeftUpperArm"/>
<origin xyz="-0.018123    0.090613    0.018123" rpy="0.094373   -0.042991      1.6861"/>
</sensor>
<sensor name="LeftUpperArm_accelerometer" type="accelerometer">
<parent link="LeftUpperArm"/>
<origin xyz="-0.018123    0.090613    0.018123" rpy="0.094373   -0.042991      1.6861"/>
</sensor>
<!-- Sensor  10-->
<sensor name="LeftForeArm_gyro" type="gyroscope">
<parent link="LeftForeArm"/>
<origin xyz="0.0016791     0.18323    0.018301" rpy="0.90429     0.18107      1.1351"/>
</sensor>
<sensor name="LeftForeArm_accelerometer" type="accelerometer">
<parent link="LeftForeArm"/>
<origin xyz="0.0016791     0.18323    0.018301" rpy="0.90429     0.18107      1.1351"/>
</sensor>
<!-- Sensor  11-->
<sensor name="LeftHand_gyro" type="gyroscope">
<parent link="LeftHand"/>
<origin xyz="1.1198e-08    0.050814    0.018478" rpy="1.2175   -0.077786      1.3837"/>
</sensor>
<sensor name="LeftHand_accelerometer" type="accelerometer">
<parent link="LeftHand"/>
<origin xyz="1.1198e-08    0.050814    0.018478" rpy="1.2175   -0.077786      1.3837"/>
</sensor>
<!-- Sensor  12-->
<sensor name="RightUpperLeg_gyro" type="gyroscope">
<parent link="RightUpperLeg"/>
<origin xyz="0.012972    -0.04567    -0.26981" rpy="2.8247      1.4102      1.8304"/>
</sensor>
<sensor name="RightUpperLeg_accelerometer" type="accelerometer">
<parent link="RightUpperLeg"/>
<origin xyz="0.012972    -0.04567    -0.26981" rpy="2.8247      1.4102      1.8304"/>
</sensor>
<!-- Sensor  13-->
<sensor name="RightLowerLeg_gyro" type="gyroscope">
<parent link="RightLowerLeg"/>
<origin xyz="0.030805   0.0070514    -0.13253" rpy="-2.9287      1.4733     -1.9582"/>
</sensor>
<sensor name="RightLowerLeg_accelerometer" type="accelerometer">
<parent link="RightLowerLeg"/>
<origin xyz="0.030805   0.0070514    -0.13253" rpy="-2.9287      1.4733     -1.9582"/>
</sensor>
<!-- Sensor  14-->
<sensor name="RightFoot_gyro" type="gyroscope">
<parent link="RightFoot"/>
<origin xyz="0.083701   0.0013928   -0.011817" rpy="0.30301     0.49685    -0.19697"/>
</sensor>
<sensor name="RightFoot_accelerometer" type="accelerometer">
<parent link="RightFoot"/>
<origin xyz="0.083701   0.0013928   -0.011817" rpy="0.30301     0.49685    -0.19697"/>
</sensor>
<!-- Sensor  15-->
<sensor name="LeftUpperLeg_gyro" type="gyroscope">
<parent link="LeftUpperLeg"/>
<origin xyz="0.012973     0.04567    -0.26981" rpy="-2.3214      1.4159     -1.1979"/>
</sensor>
<sensor name="LeftUpperLeg_accelerometer" type="accelerometer">
<parent link="LeftUpperLeg"/>
<origin xyz="0.012973     0.04567    -0.26981" rpy="-2.3214      1.4159     -1.1979"/>
</sensor>
<!-- Sensor  16-->
<sensor name="LeftLowerLeg_gyro" type="gyroscope">
<parent link="LeftLowerLeg"/>
<origin xyz="0.030805  -0.0070515    -0.13253" rpy="-2.6156      1.3817      2.7867"/>
</sensor>
<sensor name="LeftLowerLeg_accelerometer" type="accelerometer">
<parent link="LeftLowerLeg"/>
<origin xyz="0.030805  -0.0070515    -0.13253" rpy="-2.6156      1.3817      2.7867"/>
</sensor>
<!-- Sensor  17-->
<sensor name="LeftFoot_gyro" type="gyroscope">
<parent link="LeftFoot"/>
<origin xyz="0.083701  -0.0013929   -0.011817" rpy="-0.10862      0.4501     0.37976"/>
</sensor>
<sensor name="LeftFoot_accelerometer" type="accelerometer">
<parent link="LeftFoot"/>
<origin xyz="0.083701  -0.0013929   -0.011817" rpy="-0.10862      0.4501     0.37976"/>
</sensor>


</robot>
